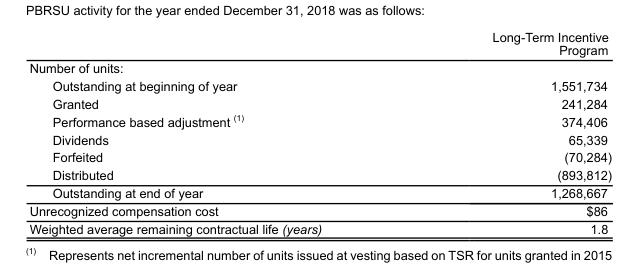table: (28, 29, 611, 235)
table column: (28, 29, 406, 235), (406, 29, 611, 235)
table column header: (28, 29, 611, 58)
table projected row header: (28, 58, 611, 76)
table row: (28, 29, 611, 58), (28, 111, 611, 130), (28, 58, 611, 76), (28, 76, 611, 94), (28, 130, 611, 148), (28, 165, 611, 183), (28, 183, 611, 201), (28, 201, 611, 219), (28, 94, 611, 111), (28, 148, 611, 165), (28, 219, 611, 235)
